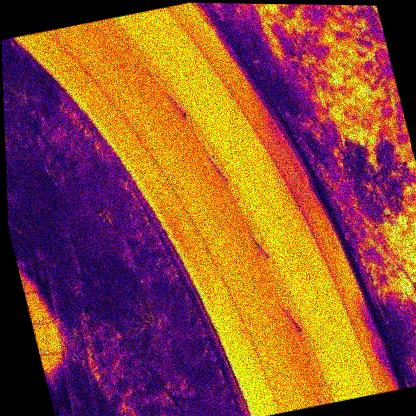Normal: (31, 320, 51, 357), (24, 290, 45, 325), (43, 320, 62, 355)
Shadow: (35, 286, 57, 323), (17, 258, 39, 294), (30, 257, 50, 290)
